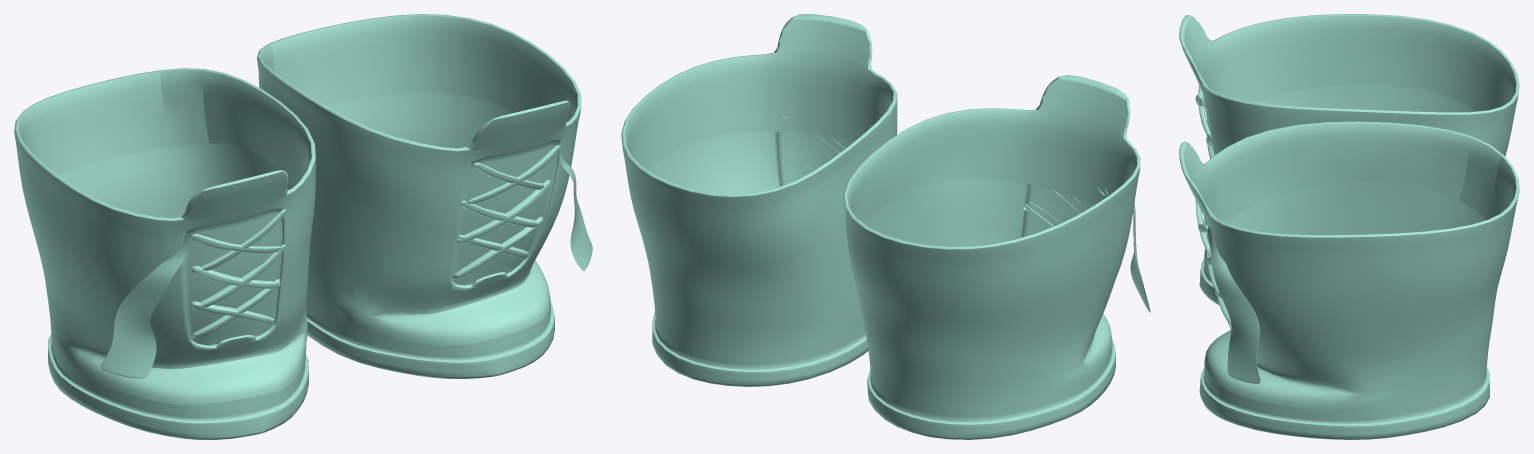
File: Boots01_lace (1).fbx
The picture shows the model from 3 angles, left to right: view 1: azimuth 30°, elevation 25°; view 2: azimuth 150°, elevation 25°; view 3: azimuth 270°, elevation 25°; orthographic projection. The views are drawn at different scales.
Visible parts, largest first — view 1: Boots_b_lace; view 2: Boots_b_lace; view 3: Boots_b_lace.
Boxes of the visible parts, left/top/right/bottom form: Boots_b_lace: left=14, top=14, right=592, bottom=439; Boots_b_lace: left=621, top=14, right=1150, bottom=439; Boots_b_lace: left=1179, top=14, right=1519, bottom=439.
Size of the model in its own units: 103 by 53.75 by 66.68.
